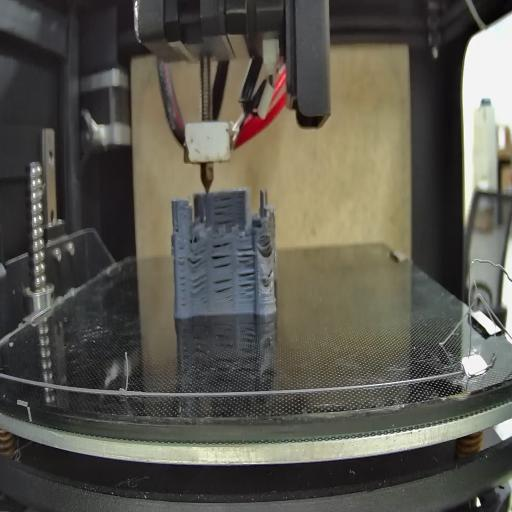cracks: (177, 241, 188, 308), (210, 240, 234, 270), (213, 194, 237, 224), (237, 268, 256, 300), (214, 275, 234, 303), (190, 272, 210, 296), (236, 243, 254, 264), (188, 248, 206, 268), (263, 240, 273, 256), (266, 266, 275, 280), (175, 219, 180, 233)
